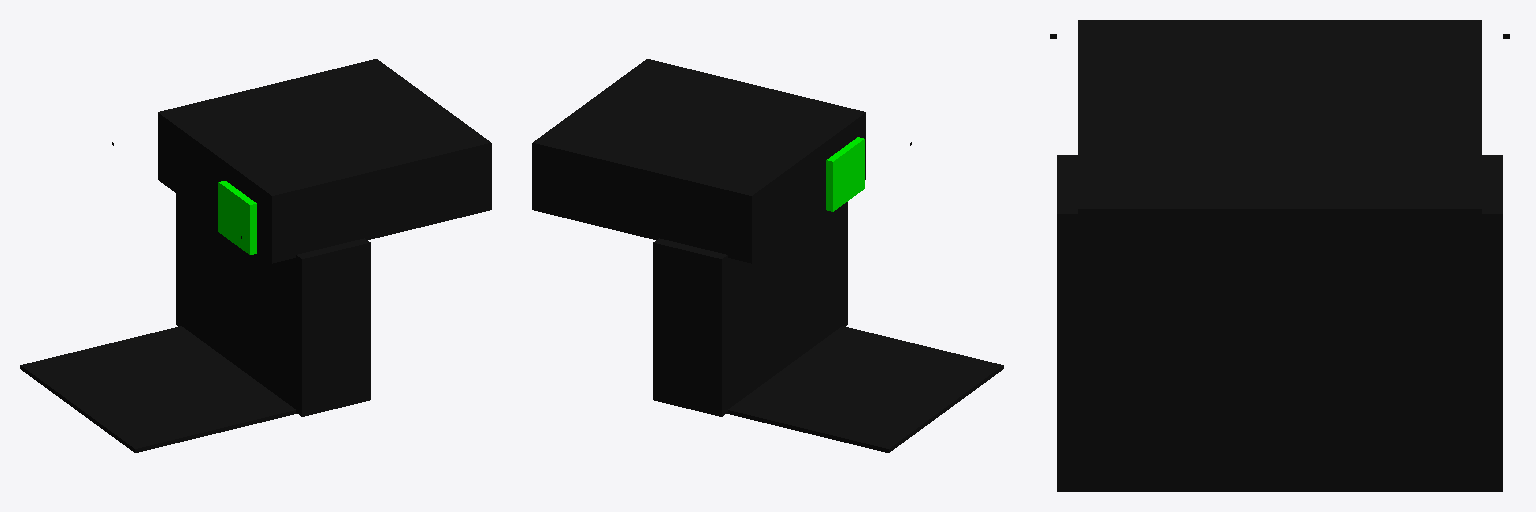
The robot description file, URDF, robot "coffee_machine":
<?xml version="1.0"?>
<robot name="coffee_machine">

  <!-- Base: Machine Bottom -->
  <link name="machine_bottom">
    <visual>
      <geometry>
          <mesh filename="bottom.obj"/>
      </geometry>
      <origin xyz="0 0 0" rpy="0 0 0"/>
      <material name="black">
        <color rgba="0.1 0.1 0.1 1"/>
      </material>
    </visual>
    <collision>
      <geometry>
          <mesh filename="bottom.obj"/>
      </geometry>
      <origin xyz="0 0 0" rpy="0 0 0"/>
    </collision>
  </link>

  <!-- Machine Back -->
  <link name="machine_back">
    <visual>
      <geometry>
          <mesh filename="back.obj"/>
      </geometry>
      <origin xyz="0 0 0.6" rpy="0 0 -1.5707"/>
      <material name="black">
        <color rgba="0.1 0.1 0.1 1"/>
      </material>
    </visual>
    <collision>
      <geometry>
          <mesh filename="back.obj"/>
      </geometry>
      <origin xyz="0 0 0.6" rpy="0 0 -1.5707"/>
    </collision>
  </link>

  <!-- Machine Top -->
  <link name="machine_top">
    <visual>
      <geometry>
          <mesh filename="top.obj"/>
      </geometry>
      <origin xyz="0 0 1.2" rpy="0 0 0"/>
      <material name="black">
        <color rgba="0.1 0.1 0.1 1"/>
      </material>
    </visual>
    <collision>
      <geometry>
          <mesh filename="top.obj"/>
      </geometry>
      <origin xyz="0 0 1.2" rpy="0 0 0"/>
    </collision>
  </link>

  <!-- Fixed joints to connect the body parts -->
  <joint name="back_to_bottom" type="fixed">
    <parent link="machine_back"/>
    <child link="machine_bottom"/>
    <origin xyz="0 8 +1" rpy="0 0 0"/>
  </joint>

  <joint name="back_to_top" type="fixed">
    <parent link="machine_back"/>
    <child link="machine_top"/>
    <origin xyz="20 8 -1" rpy="0 0 0"/>
  </joint>

  <!-- Button -->
  <link name="power_button">
    <visual>
      <geometry>
          <mesh filename="button.obj"/>
      </geometry>
      <origin xyz="0 0 0"/>
      <material name="green">
        <color rgba="0 1 0 1"/>
      </material>
    </visual>
    <collision>
      <geometry>
          <mesh filename="button.obj"/>
      </geometry>
      <origin xyz="0 0 0"/>
    </collision>
  </link>

  <!-- Button Joint -->
  <joint name="button_joint" type="prismatic">
    <parent link="machine_top"/> 
    <child link="power_button"/>
    <origin xyz="-5 -10 0" rpy="0 0 -1.5707"/>
    <axis xyz="0 -1 0"/>
    <limit lower="0.0" upper="0.01" effort="10" velocity="0.1"/>
  </joint>

</robot>

--- What the picture shows (computed from the rendered views, not written in the file) ---
Views: 3 orthographic renders of the robot side by side, from view 1: azimuth 30°, elevation 25°; view 2: azimuth 150°, elevation 25°; view 3: azimuth 270°, elevation 25°.
Model coffee_machine with 4 links and 3 joints (1 prismatic, 2 fixed), rooted at machine_back, posed all joints at 0.
Links seen in each view (by area): view 1: machine_top, machine_back, machine_bottom, power_button; view 2: machine_top, machine_back, machine_bottom, power_button; view 3: machine_top, machine_back.
Link boxes in pixels (<box>): machine_top: <box>158,59,491,263</box>; machine_back: <box>112,142,370,416</box>; machine_bottom: <box>20,326,296,452</box>; power_button: <box>218,181,256,254</box>; machine_top: <box>532,59,865,263</box>; machine_back: <box>653,142,911,416</box>; machine_bottom: <box>727,326,1003,452</box>; power_button: <box>826,137,864,211</box>; machine_top: <box>1078,20,1481,327</box>; machine_back: <box>1050,34,1509,491</box>.
Size in the robot's own frame: 52 by 33 by 31.2 metres.
Meshes: 4 distinct files referenced, 4 mesh visuals loaded (4 OBJ).
